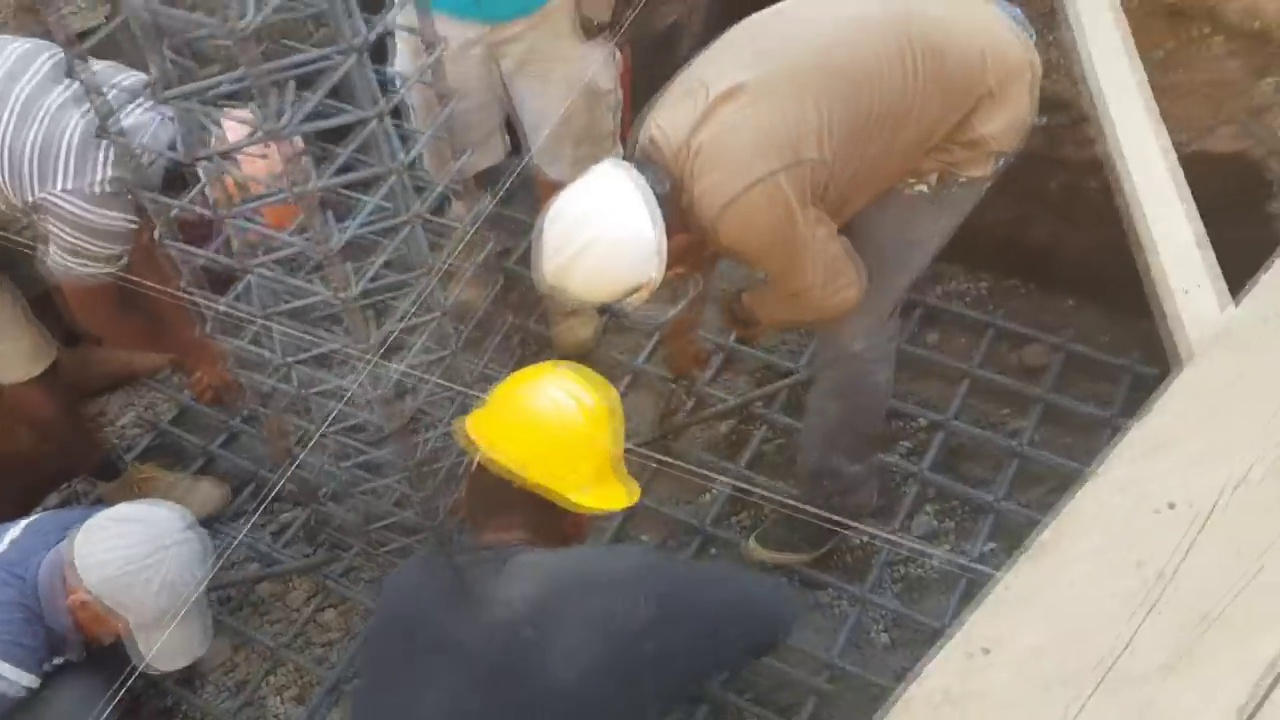helmet: (456, 356, 640, 519), (537, 159, 663, 333), (205, 121, 308, 239)
helmet-off: (50, 510, 216, 665)
helmet-on: (451, 356, 634, 564), (536, 147, 730, 335), (143, 103, 318, 249)
person: (530, 7, 1036, 561), (338, 351, 799, 718), (0, 15, 323, 490), (383, 1, 644, 319), (1, 497, 234, 716)
